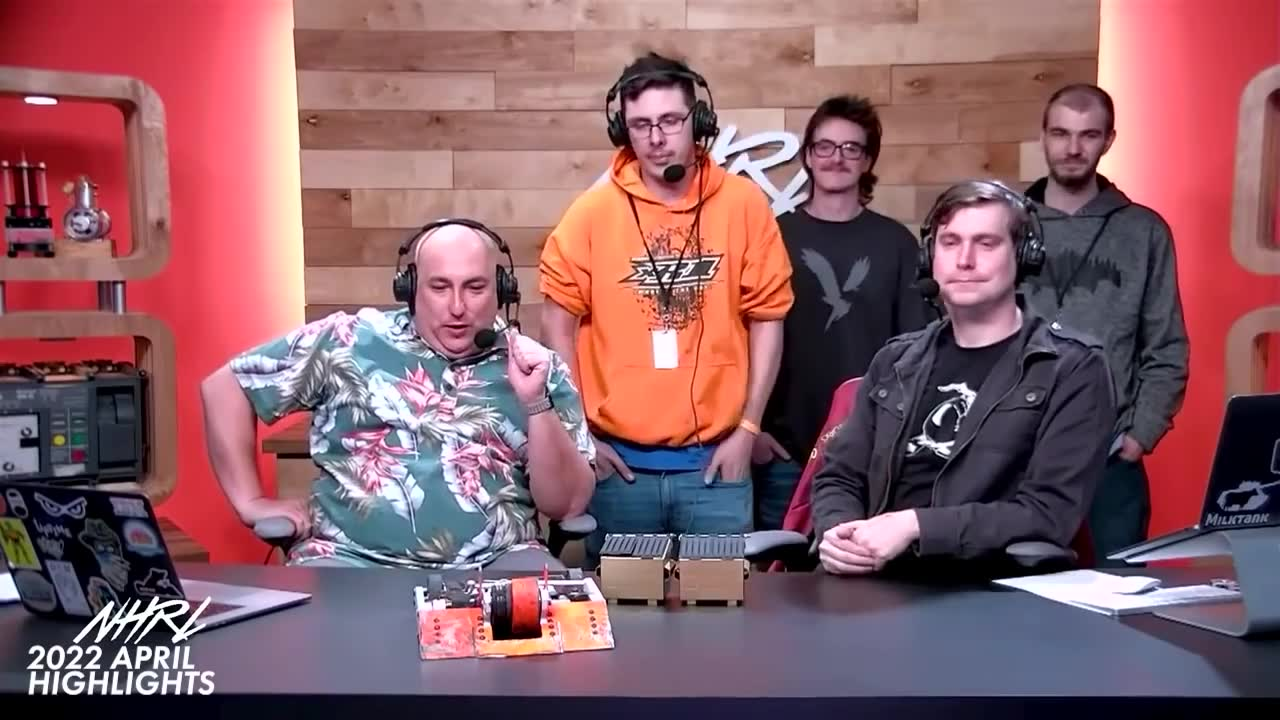combatbot: (411, 560, 617, 663)
